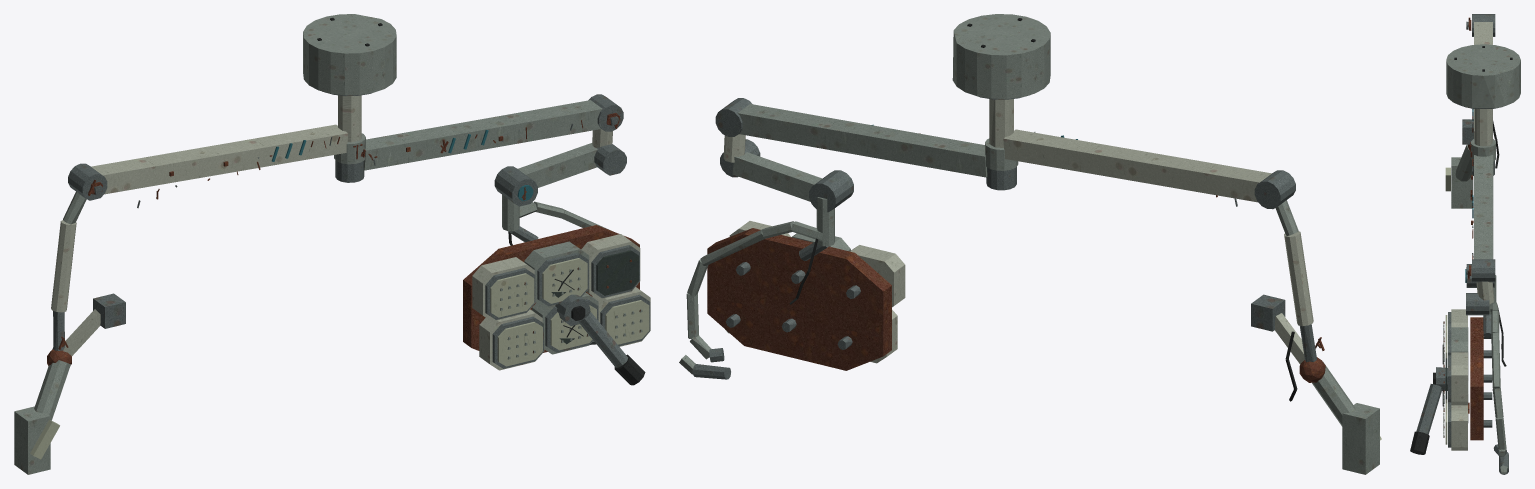
The model's file is surgical_lamp.glb.
3 renders of one model, left to right at view 1: azimuth 30°, elevation 25°; view 2: azimuth 150°, elevation 25°; view 3: azimuth 270°, elevation 25°, orthographic. The views are drawn at different scales.
Visible parts, largest first — view 1: enamel_dirty_surfaces, enamel_surfaces, metal_surfaces, lens_surfaces, rust_surfaces, dead_lens_surfaces, rubber_surfaces; view 2: enamel_dirty_surfaces, rust_surfaces, enamel_surfaces, metal_surfaces; view 3: enamel_dirty_surfaces, metal_surfaces, enamel_surfaces, rust_surfaces, rubber_surfaces, lens_surfaces, dead_lens_surfaces.
Boxes of the visible parts, x1,y1,x2,y2 form: enamel_dirty_surfaces: (14, 14, 642, 474); enamel_surfaces: (51, 95, 650, 370); metal_surfaces: (53, 91, 650, 368); lens_surfaces: (30, 258, 649, 459); rust_surfaces: (47, 113, 640, 365); dead_lens_surfaces: (551, 250, 638, 344); rubber_surfaces: (52, 17, 645, 385); enamel_dirty_surfaces: (679, 14, 1379, 474); rust_surfaces: (707, 133, 1325, 382); enamel_surfaces: (723, 99, 1313, 364); metal_surfaces: (692, 95, 1316, 379); enamel_dirty_surfaces: (1443, 44, 1520, 473); metal_surfaces: (1416, 14, 1508, 474); enamel_surfaces: (1451, 22, 1494, 450); rust_surfaces: (1443, 17, 1483, 440); rubber_surfaces: (1410, 46, 1512, 454); lens_surfaces: (1445, 167, 1450, 444); dead_lens_surfaces: (1443, 354, 1447, 403).
Size of the model in its own units: 3.98 by 2.32 by 0.7565.
8 materials, 8 textured.
